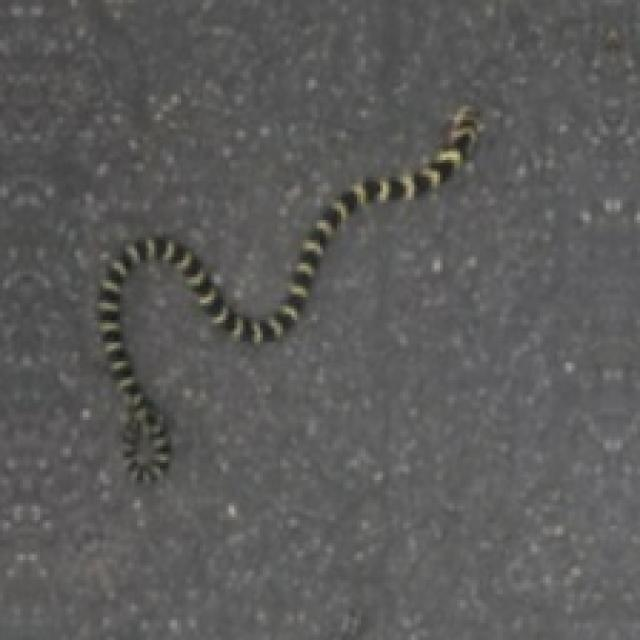king cobra: (97, 106, 480, 480)
